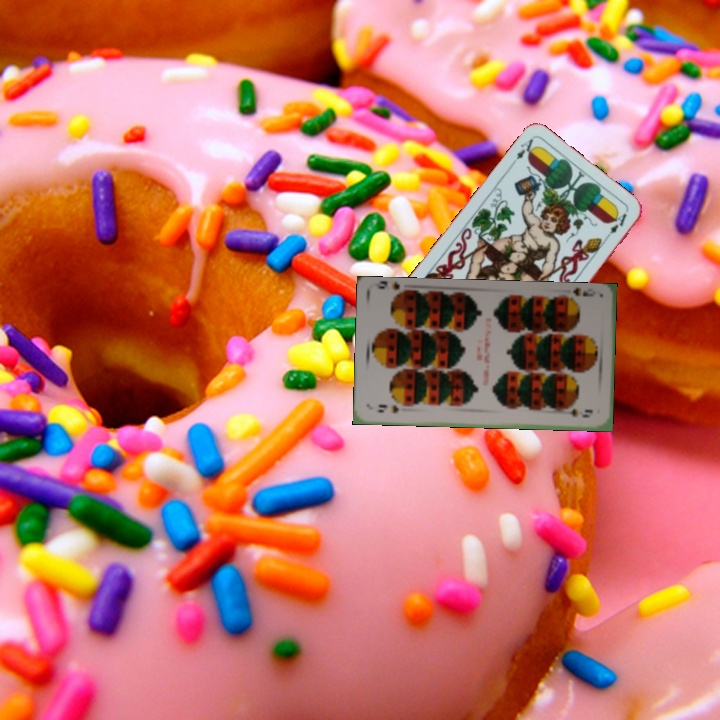EA: (506, 135, 539, 170)
S9: (560, 285, 598, 305), (374, 401, 401, 416)
